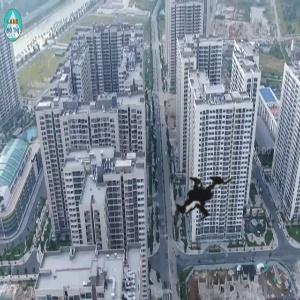drone: (139, 130, 297, 288)
